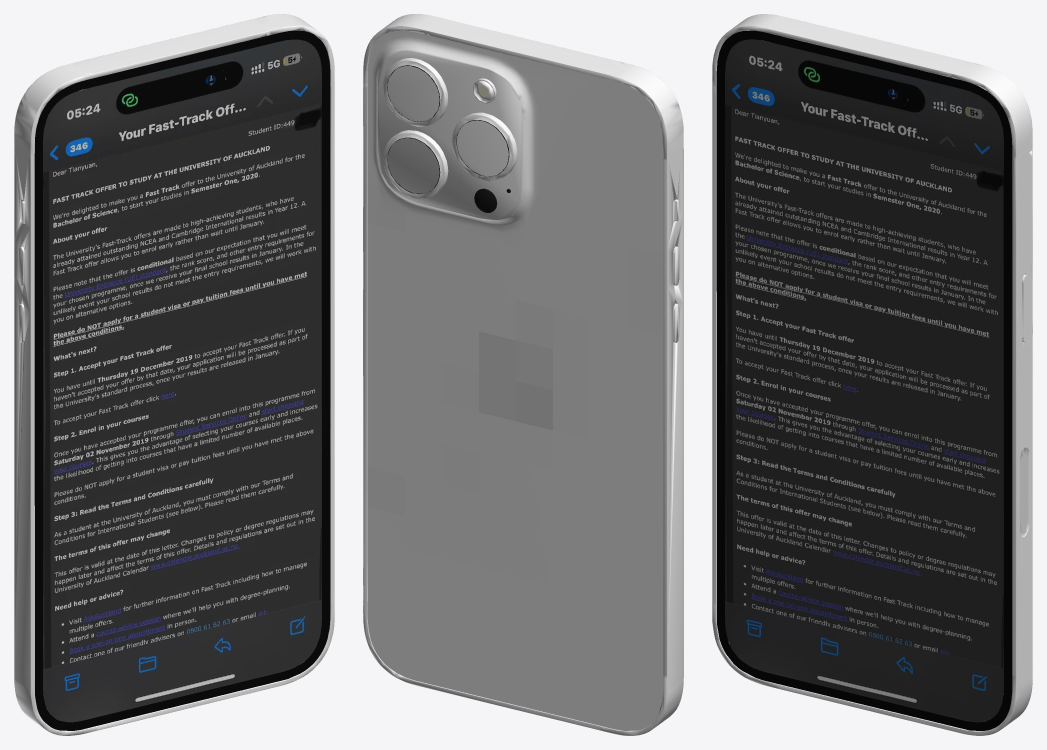
Rendered from iphone-transformed.glb.
3 renders of one model, left to right at view 1: azimuth 30°, elevation 25°; view 2: azimuth 150°, elevation 25°; view 3: azimuth 330°, elevation 25°, orthographic.
Parts seen in each view (by area): view 1: Screen_new_clean_2_Screen_0, Body_clean_2_Body metall roughness_0, Screen_new_clean_2_Screen black camera_0; view 2: Back_cameras_2_Back plastic_0, Body_clean_2_Body metall roughness_0; view 3: Screen_new_clean_2_Screen_0, Body_clean_2_Body metall roughness_0, Screen_new_clean_2_Screen black camera_0.
Boxes of the visible parts, bbox=[...] form: Screen_new_clean_2_Screen_0: bbox=[43, 39, 321, 722]; Body_clean_2_Body metall roughness_0: bbox=[14, 14, 334, 735]; Screen_new_clean_2_Screen black camera_0: bbox=[139, 66, 225, 107]; Back_cameras_2_Back plastic_0: bbox=[367, 30, 663, 730]; Body_clean_2_Body metall roughness_0: bbox=[363, 14, 683, 735]; Screen_new_clean_2_Screen_0: bbox=[725, 39, 1003, 722]; Body_clean_2_Body metall roughness_0: bbox=[712, 14, 1032, 735]; Screen_new_clean_2_Screen black camera_0: bbox=[821, 66, 907, 107].
Size of the model in its own units: 1.07 by 2.19 by 0.1429.
4 materials, 4 textured.
